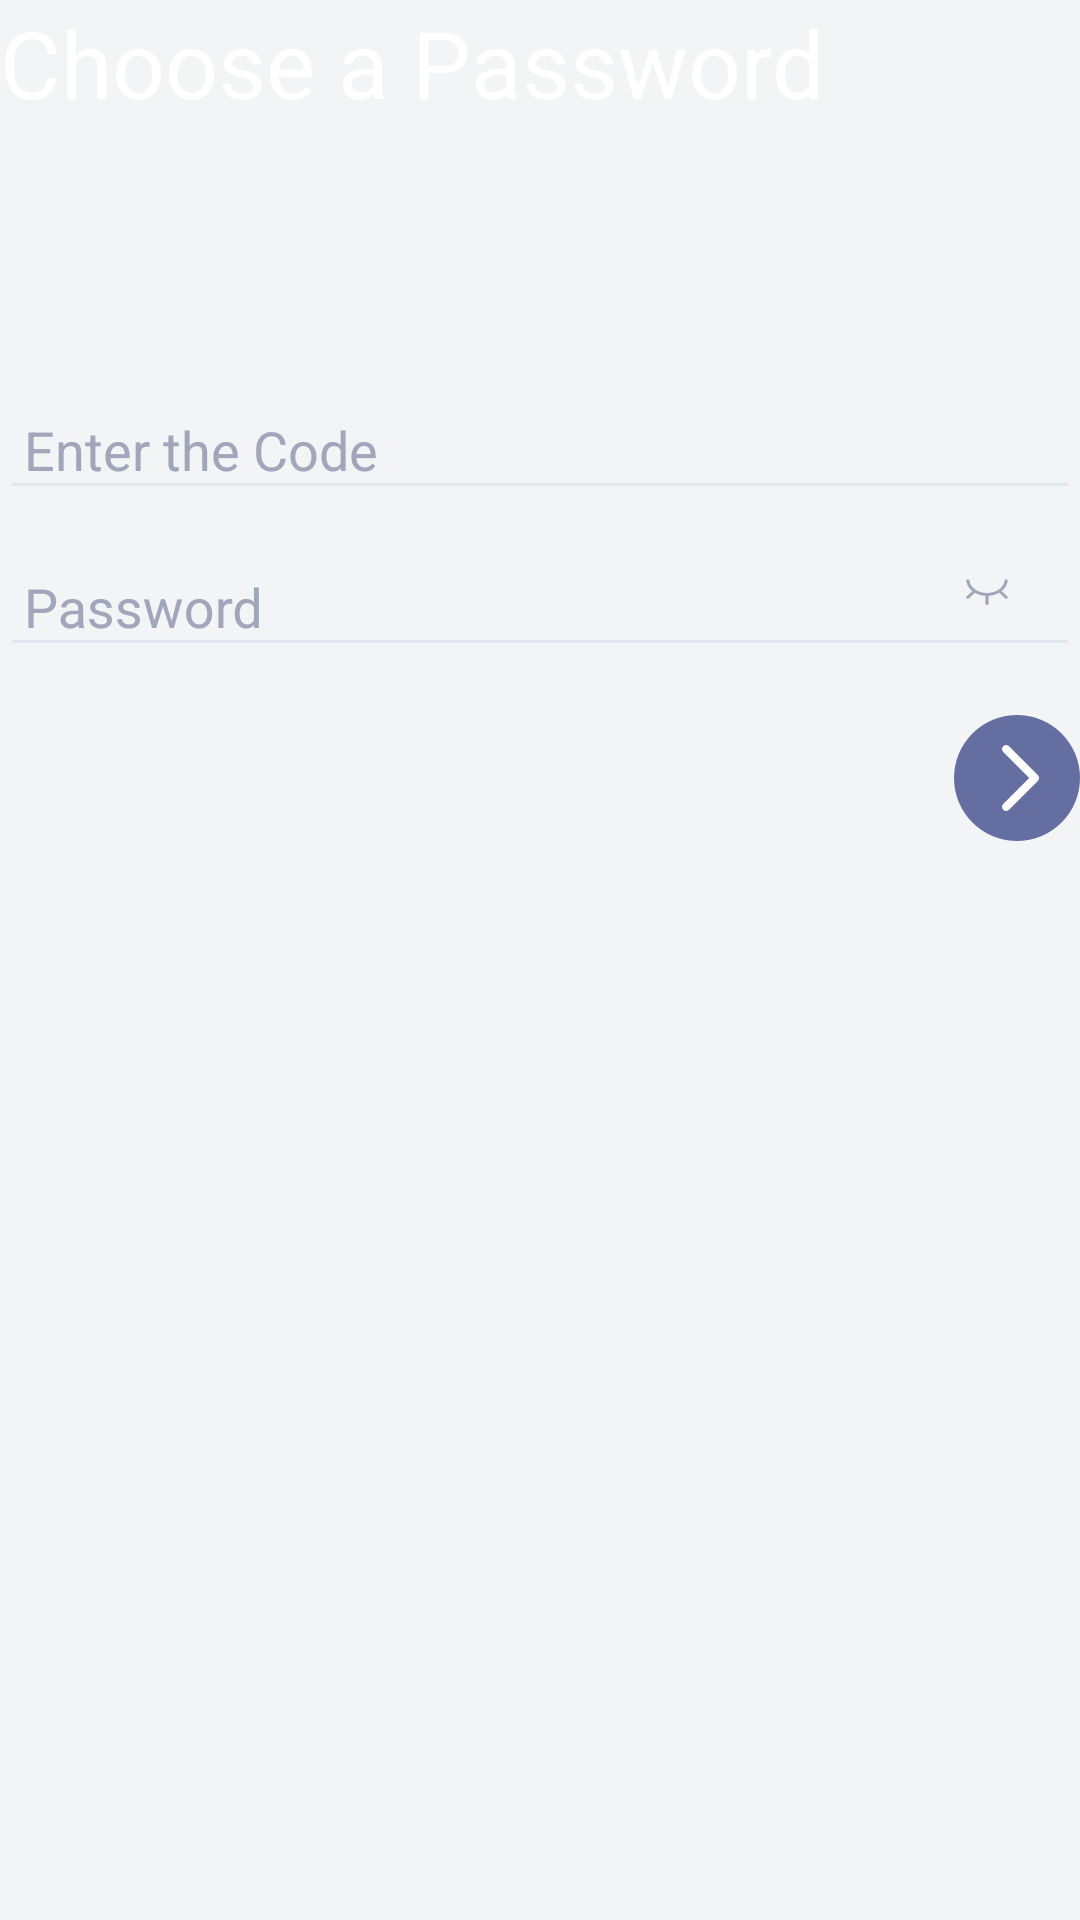

Icon click points for this 1080 x 1920 phone screenshot, format point (x, y):
switch pwd mode: point (987, 592)
